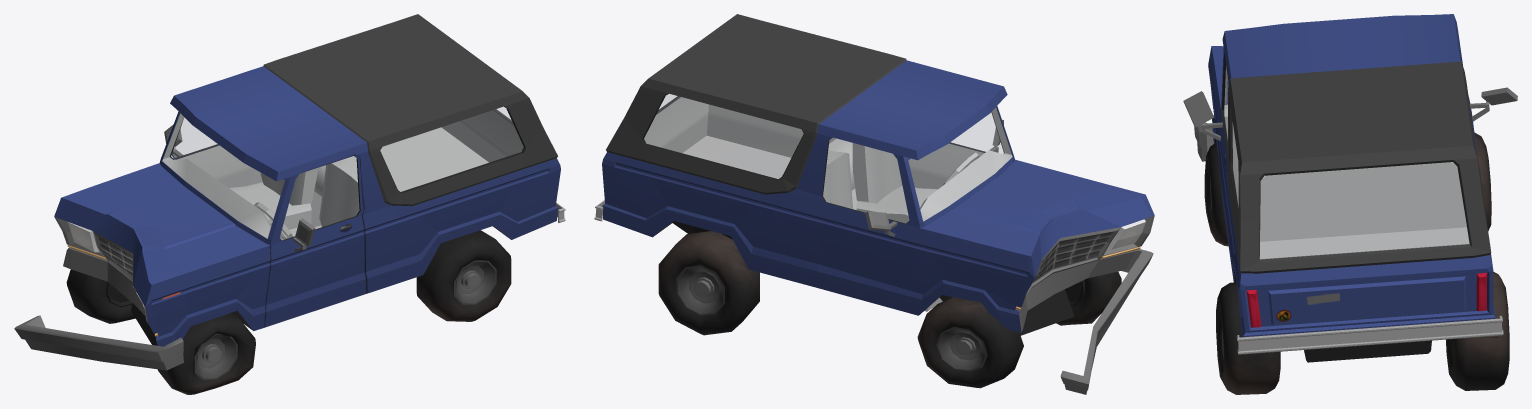
Rendered from bronco_busted.02.fbx.
3 renders of one model, left to right at view 1: azimuth 30°, elevation 25°; view 2: azimuth 150°, elevation 25°; view 3: azimuth 270°, elevation 25°, orthographic. The views are drawn at different scales.
Visible parts, largest first — view 1: JCallaci_bronco_01:body, JCallaci_bronco_01:interior_walls, JCallaci_bronco_01:back_left_tire, JCallaci_bronco_01:front_left_tire, JCallaci_bronco_01:front_bumper, JCallaci_bronco_01:front_right_tire, JCallaci_bronco_01:drivers_backrest, JCallaci_bronco_01:passenger_seat, JCallaci_bronco_01:passenger_backrest; view 2: JCallaci_bronco_01:body, JCallaci_bronco_01:interior_walls, JCallaci_bronco_01:back_right_tire, JCallaci_bronco_01:front_right_tire, JCallaci_bronco_01:drivers_backrest, JCallaci_bronco_01:front_bumper, JCallaci_bronco_01:front_left_tire, JCallaci_bronco_01:passenger_backrest, JCallaci_bronco_01:drivers_seat; view 3: JCallaci_bronco_01:body, JCallaci_bronco_01:interior_walls, JCallaci_bronco_01:back_bumper, JCallaci_bronco_01:back_left_tire, JCallaci_bronco_01:back_right_tire, JCallaci_bronco_01:front_left_tire, JCallaci_bronco_01:front_right_tire, JCallaci_bronco_01:left_mirror, JCallaci_bronco_01:right_mirror, JCallaci_bronco_01:front_bumper.
Boxes of the visible parts, left/top/right/bottom form: JCallaci_bronco_01:body: left=54, top=14, right=560, bottom=346; JCallaci_bronco_01:interior_walls: left=162, top=110, right=523, bottom=238; JCallaci_bronco_01:back_left_tire: left=416, top=230, right=511, bottom=321; JCallaci_bronco_01:front_left_tire: left=157, top=313, right=255, bottom=394; JCallaci_bronco_01:front_bumper: left=14, top=315, right=183, bottom=370; JCallaci_bronco_01:front_right_tire: left=66, top=269, right=135, bottom=323; JCallaci_bronco_01:drivers_backrest: left=319, top=160, right=359, bottom=226; JCallaci_bronco_01:passenger_seat: left=229, top=182, right=311, bottom=229; JCallaci_bronco_01:passenger_backrest: left=260, top=168, right=317, bottom=205; JCallaci_bronco_01:body: left=602, top=14, right=1154, bottom=335; JCallaci_bronco_01:interior_walls: left=644, top=97, right=1012, bottom=311; JCallaci_bronco_01:back_right_tire: left=658, top=231, right=759, bottom=335; JCallaci_bronco_01:front_right_tire: left=917, top=297, right=1023, bottom=388; JCallaci_bronco_01:drivers_backrest: left=852, top=143, right=901, bottom=203; JCallaci_bronco_01:front_bumper: left=1060, top=249, right=1153, bottom=394; JCallaci_bronco_01:front_left_tire: left=1056, top=271, right=1121, bottom=325; JCallaci_bronco_01:passenger_backrest: left=823, top=150, right=852, bottom=209; JCallaci_bronco_01:drivers_seat: left=856, top=185, right=937, bottom=223; JCallaci_bronco_01:body: left=1208, top=14, right=1495, bottom=362; JCallaci_bronco_01:interior_walls: left=1224, top=65, right=1469, bottom=259; JCallaci_bronco_01:back_bumper: left=1236, top=315, right=1503, bottom=354; JCallaci_bronco_01:back_left_tire: left=1216, top=282, right=1280, bottom=394; JCallaci_bronco_01:back_right_tire: left=1446, top=271, right=1509, bottom=390; JCallaci_bronco_01:front_left_tire: left=1204, top=142, right=1228, bottom=246; JCallaci_bronco_01:front_right_tire: left=1474, top=132, right=1491, bottom=230; JCallaci_bronco_01:left_mirror: left=1183, top=91, right=1214, bottom=126; JCallaci_bronco_01:right_mirror: left=1481, top=87, right=1517, bottom=105; JCallaci_bronco_01:front_bumper: left=1194, top=123, right=1213, bottom=161.
Bounding box in the file's own units: 30.31 × 14.3 × 15.57.
